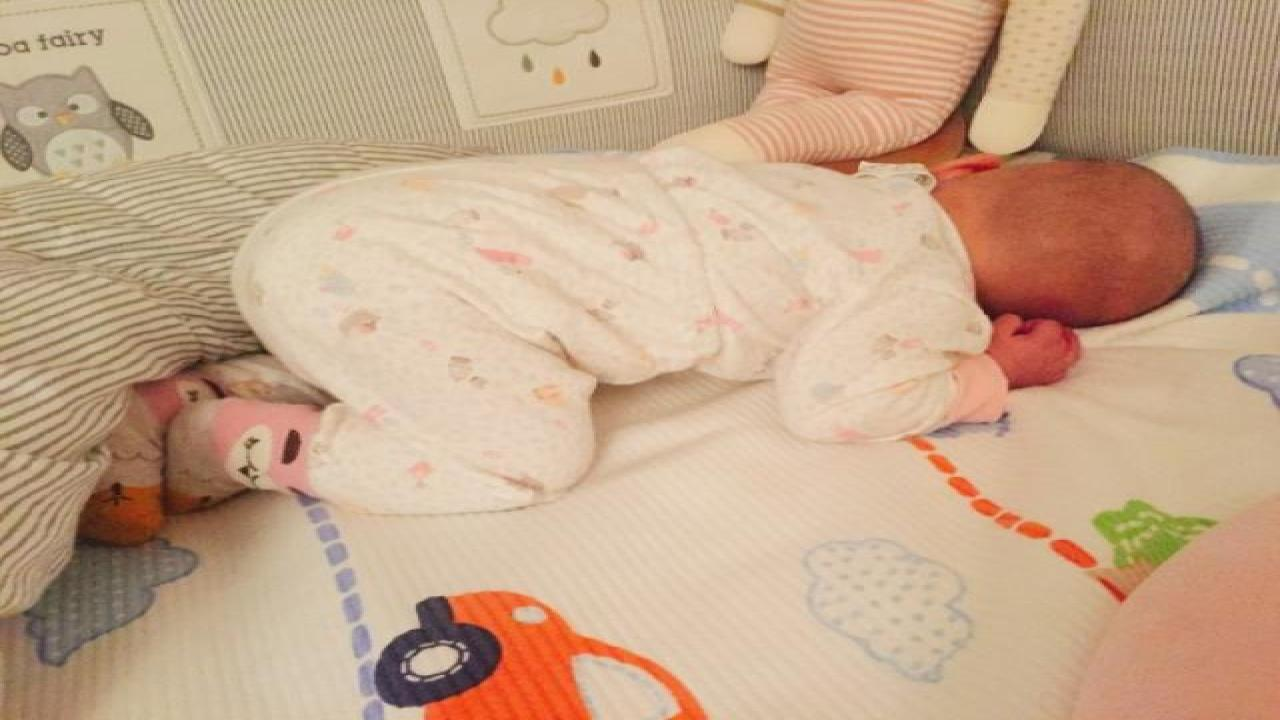hand: (984, 314, 1080, 388)
